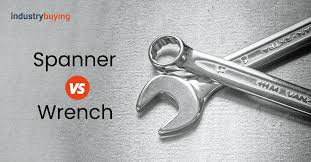Wrench: (149, 36, 310, 114), (136, 72, 221, 135), (224, 17, 310, 68)
